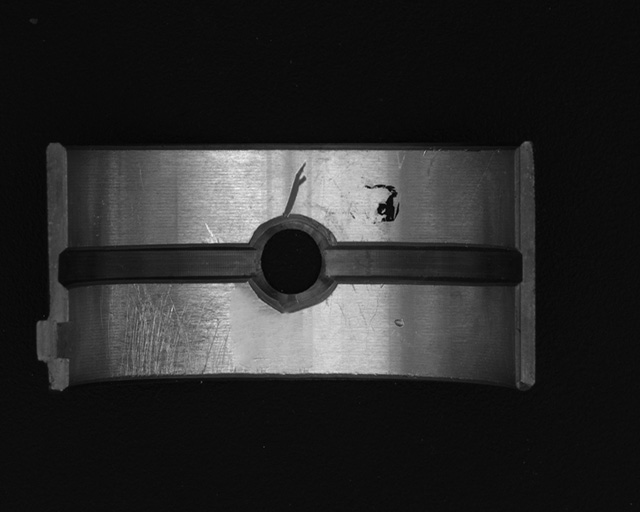blot: (363, 183, 402, 224)
bruise: (392, 316, 406, 328)
gap: (321, 239, 522, 292), (58, 243, 254, 288)
hole: (249, 218, 338, 309)
nick: (283, 161, 309, 218), (203, 222, 221, 244)
scratch: (97, 284, 236, 376)
